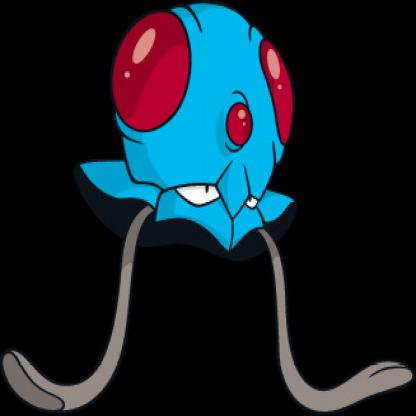Tentacool: (39, 3, 402, 416)
